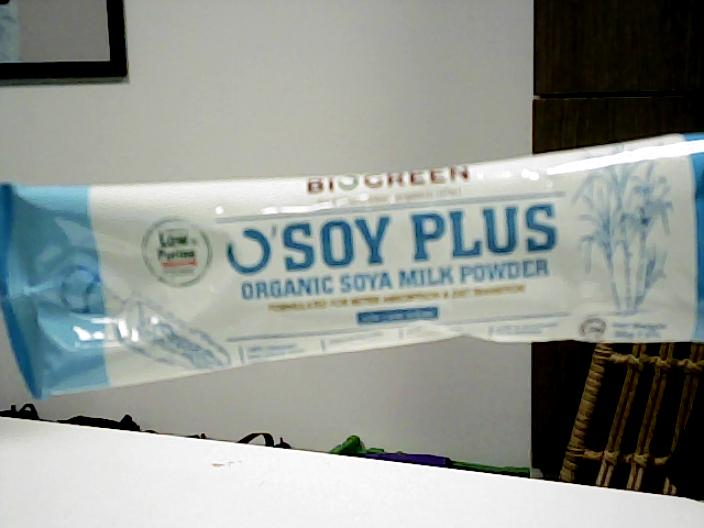Adult_Milk_0-99g_Halal_NonHealthy: (1, 138, 702, 368)
